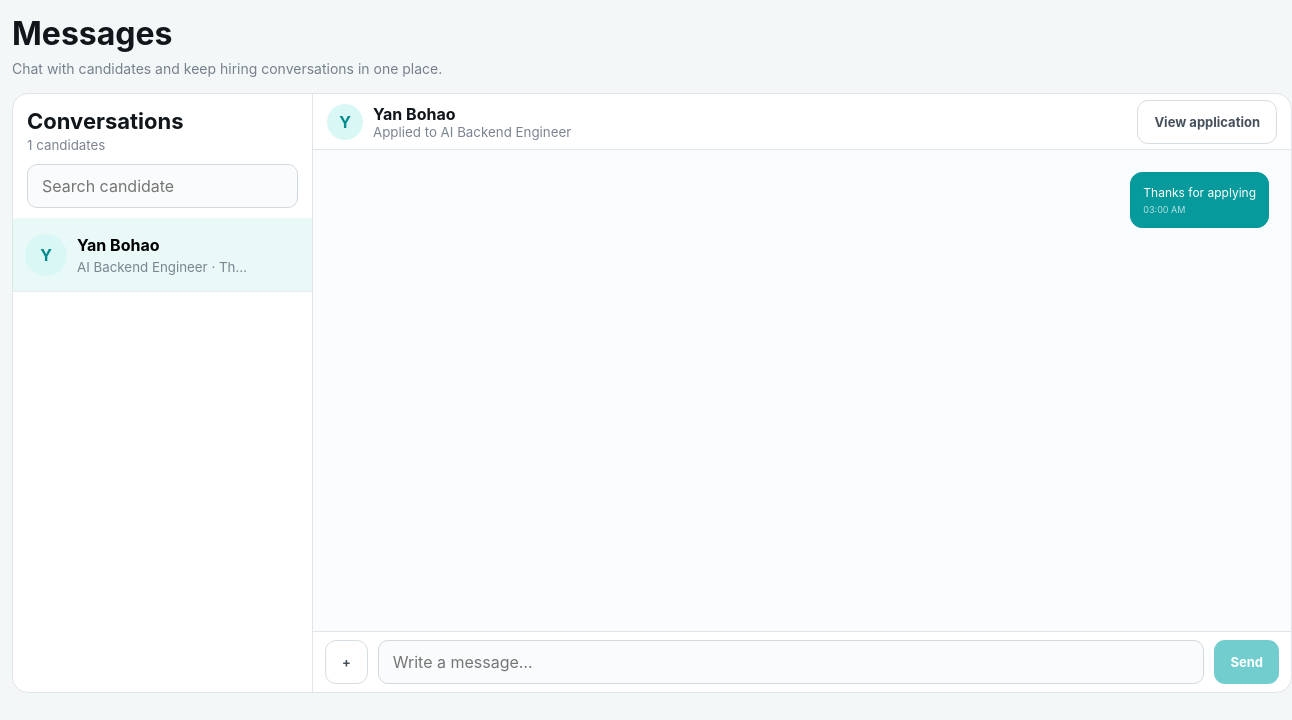
Scenario: MessagesPage › preserves the input when sending fails
Type "hello" into the field with placeholder "Write a message…" at (791,662), box [378,640,1204,684]
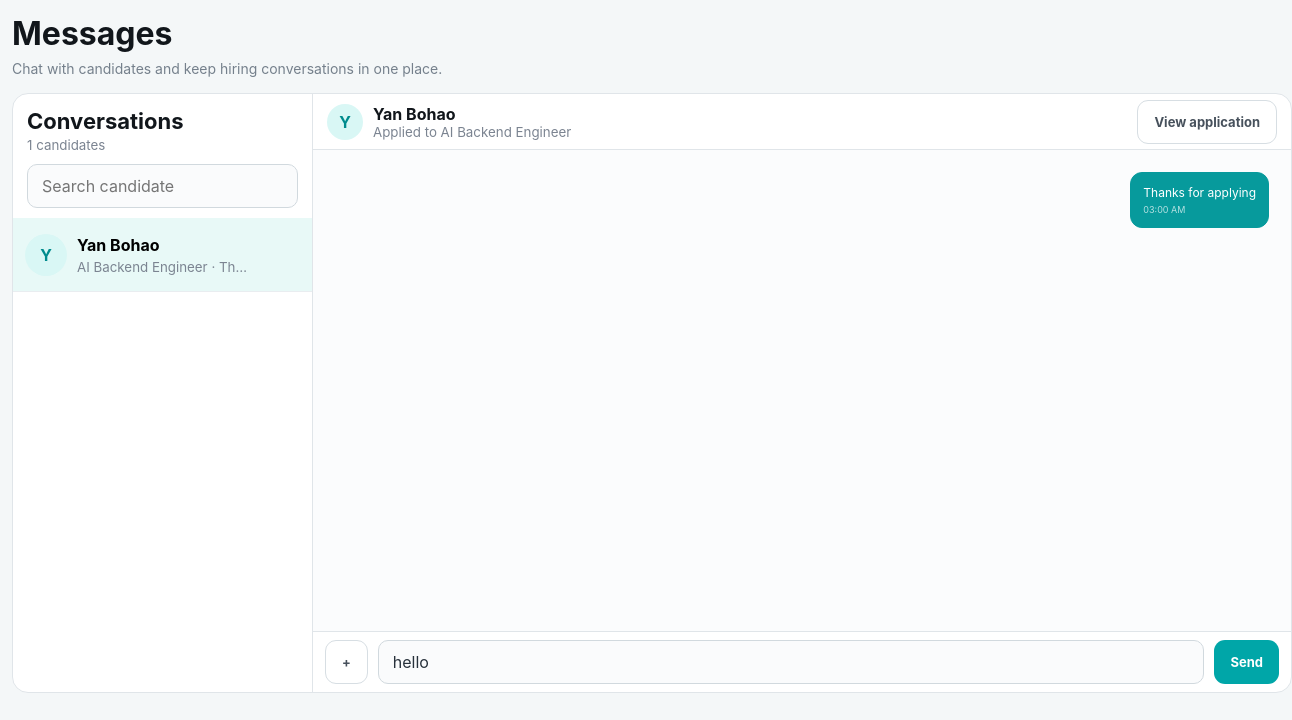
Click the button "Send" at (1247,662), box [1214,640,1279,684]
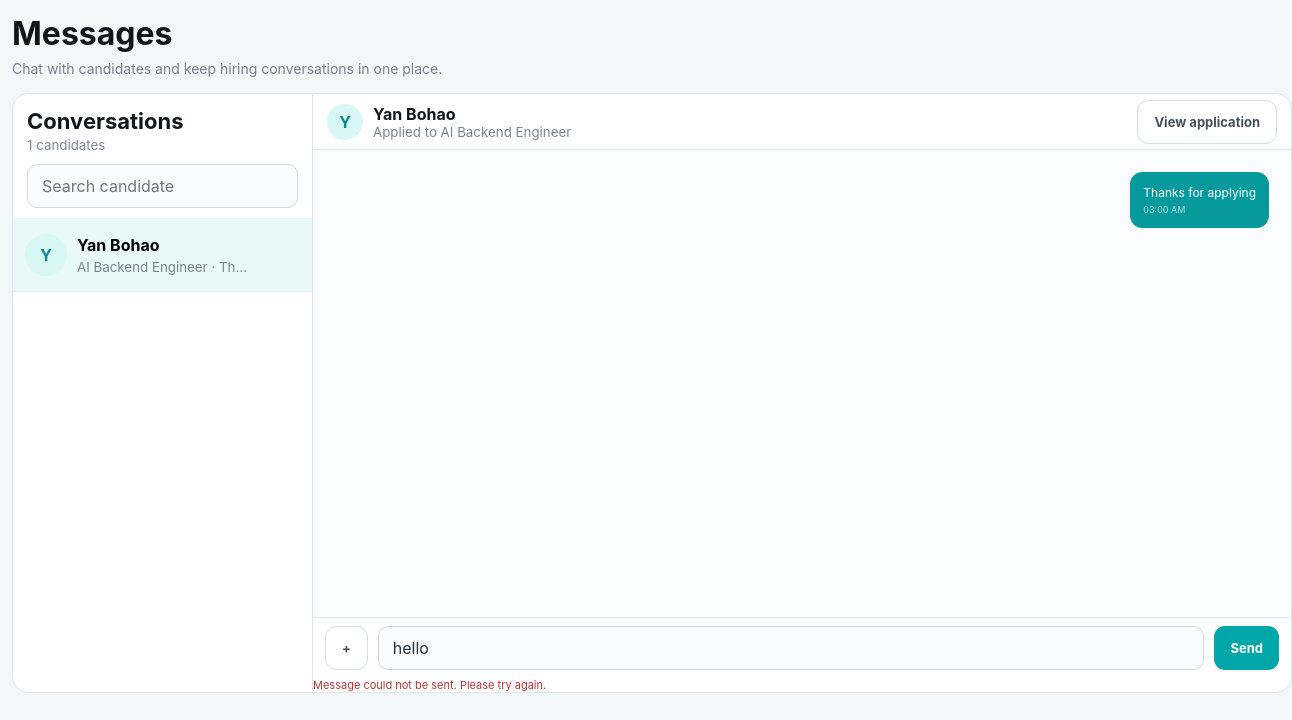
Expected: the message shows "could not be sent", [313,678,546,692]
